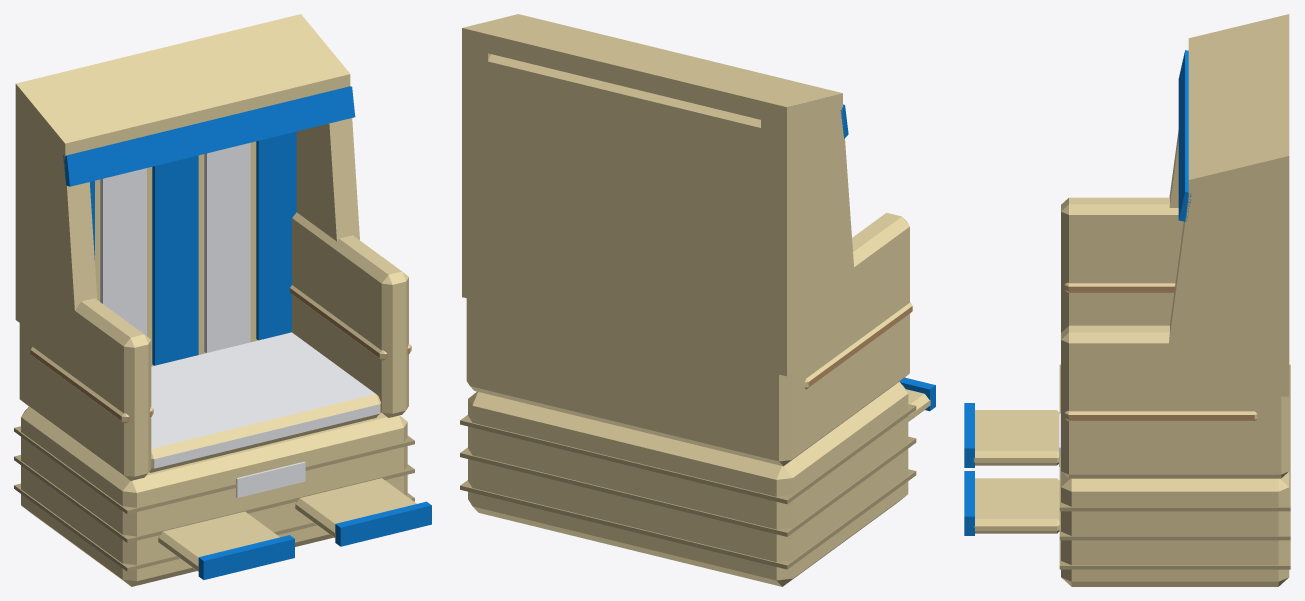
The model's file is strandkorb.glb.
3 views of the same model, side by side, from view 1: azimuth 30°, elevation 25°; view 2: azimuth 150°, elevation 25°; view 3: azimuth 270°, elevation 25° (orthographic). The views are drawn at different scales.
Parts seen in each view (by area): view 1: strandkorb-m; view 2: strandkorb-m; view 3: strandkorb-m.
Part boxes in pixels (x1,y1,x2,y2): strandkorb-m: (14,14,431,586); strandkorb-m: (460,14,935,586); strandkorb-m: (964,14,1290,586).
Size of the model in its own units: 1.27 by 1.79 by 1.21.
